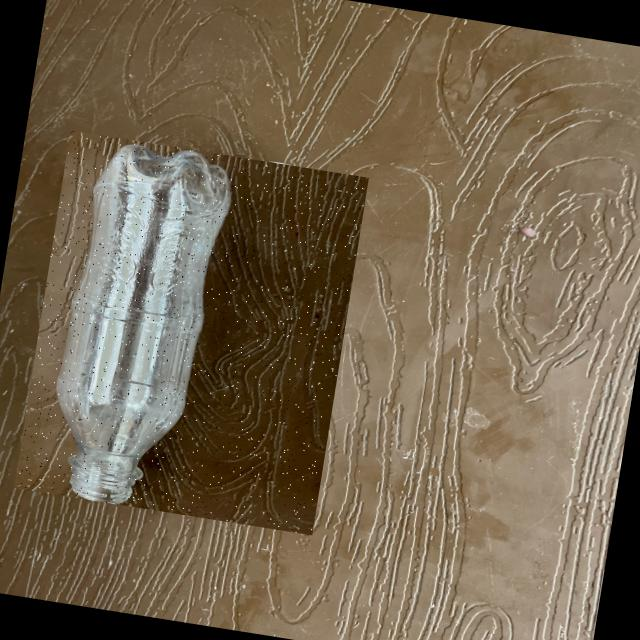PET_ClearBottle: (14, 130, 369, 536)
